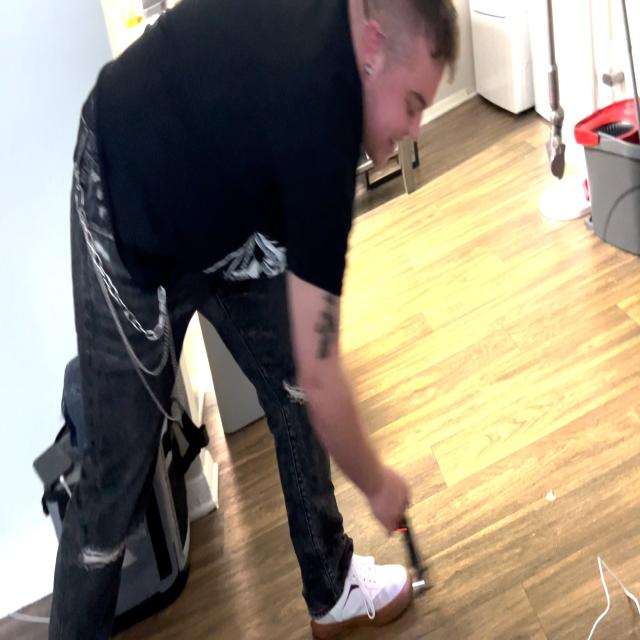drone: (380, 492, 442, 602)
